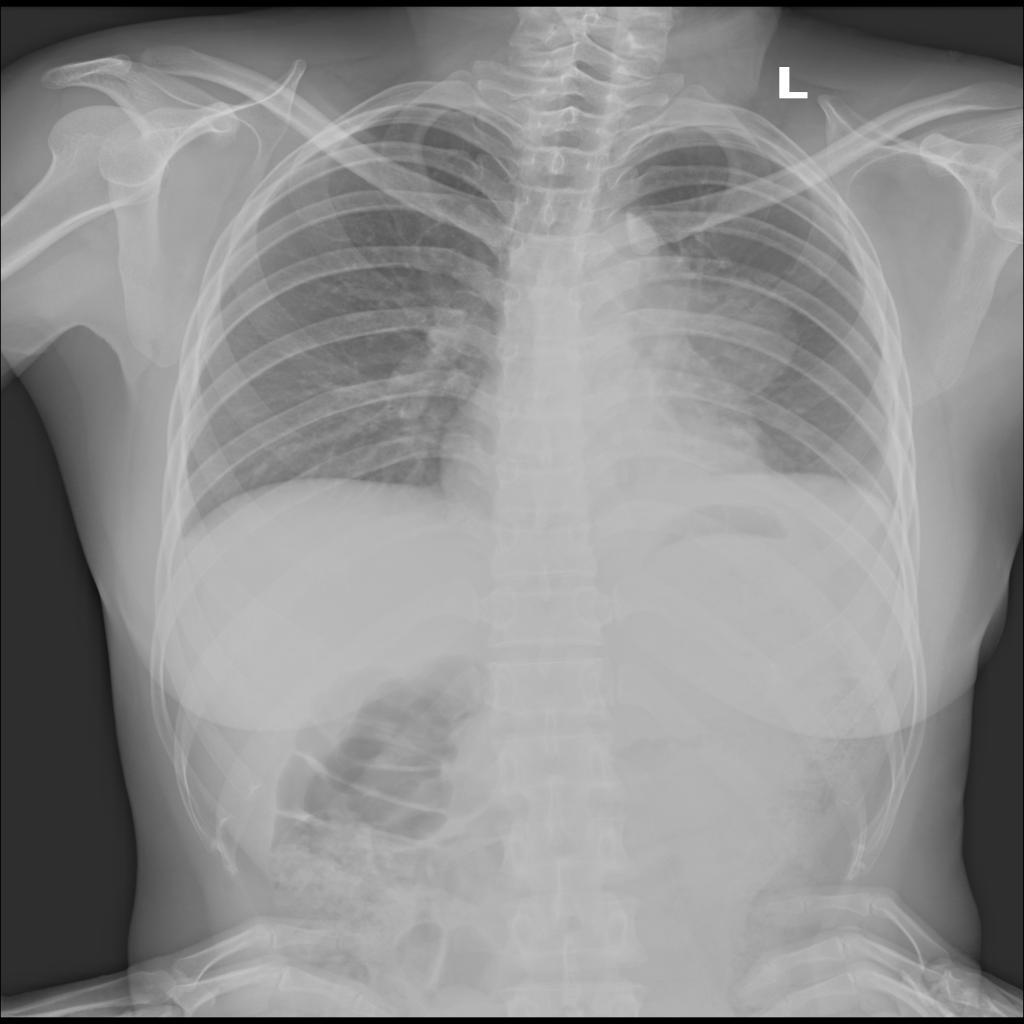Nodule: (679, 288, 795, 392)
